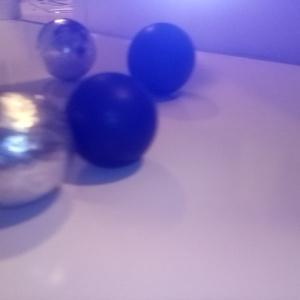alive_ball: (1, 89, 72, 208), (36, 17, 97, 81)
dead_ball: (64, 71, 157, 168), (127, 22, 196, 96)
